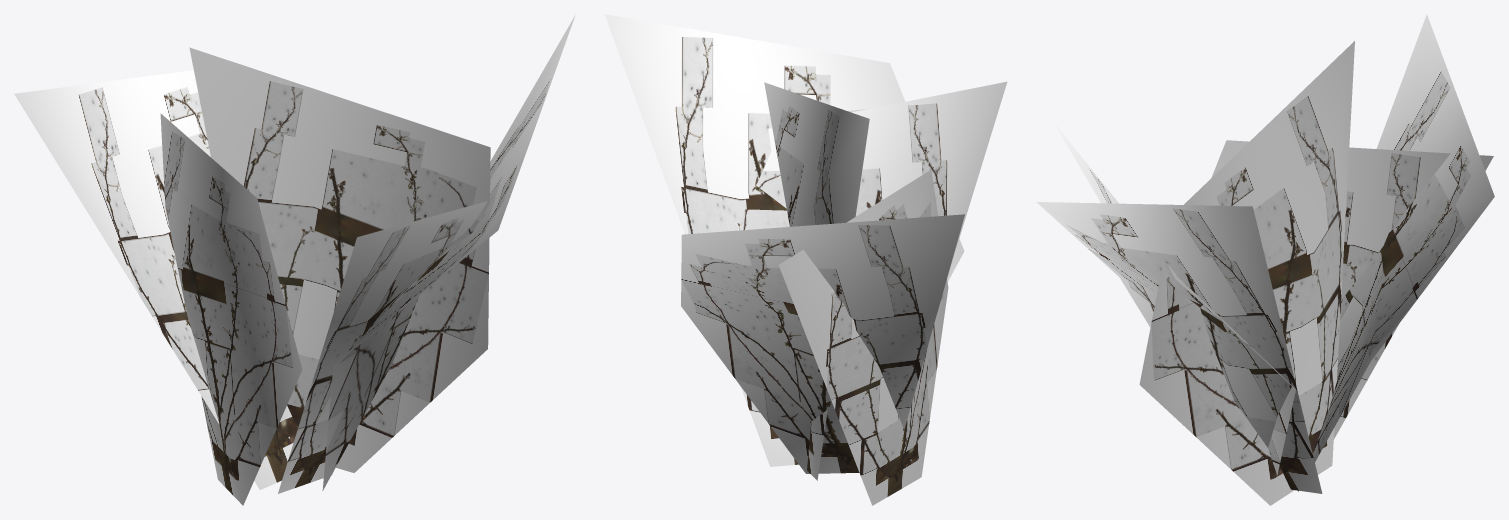
The model's file is Bush1_1.fbx.
The picture shows the model from 3 angles, left to right: view 1: azimuth 30°, elevation 25°; view 2: azimuth 150°, elevation 25°; view 3: azimuth 270°, elevation 25°; orthographic projection. The views are drawn at different scales.
Parts seen in each view (by area): view 1: LOD0; view 2: LOD0; view 3: LOD0.
Boxes of the visible parts, <box> form: LOD0: <box>14,15,575,505</box>; LOD0: <box>604,14,1007,505</box>; LOD0: <box>1036,14,1494,505</box>.
Size of what is drawn, in the model's own units: 183 by 157 by 160.
